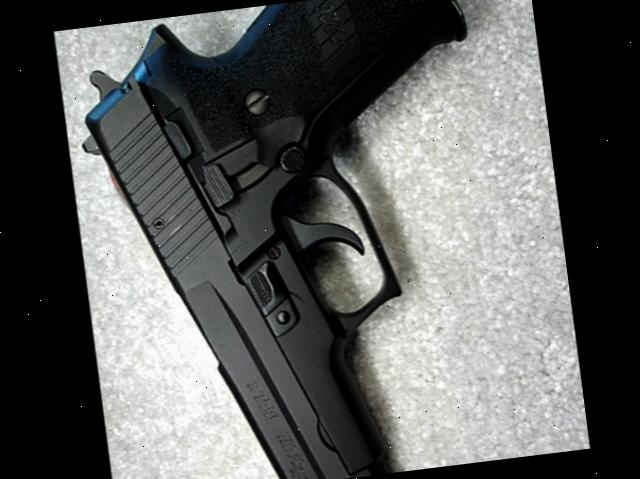pistol: (65, 0, 524, 479)
